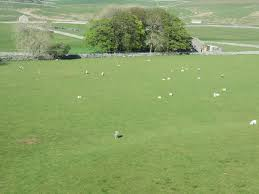sheep: (112, 129, 121, 139), (212, 92, 221, 100), (156, 94, 163, 102), (216, 72, 224, 79), (249, 119, 255, 128), (162, 75, 172, 80), (100, 70, 106, 78), (167, 90, 172, 98), (195, 75, 200, 82), (76, 94, 81, 101), (85, 69, 90, 75), (223, 88, 226, 92)
